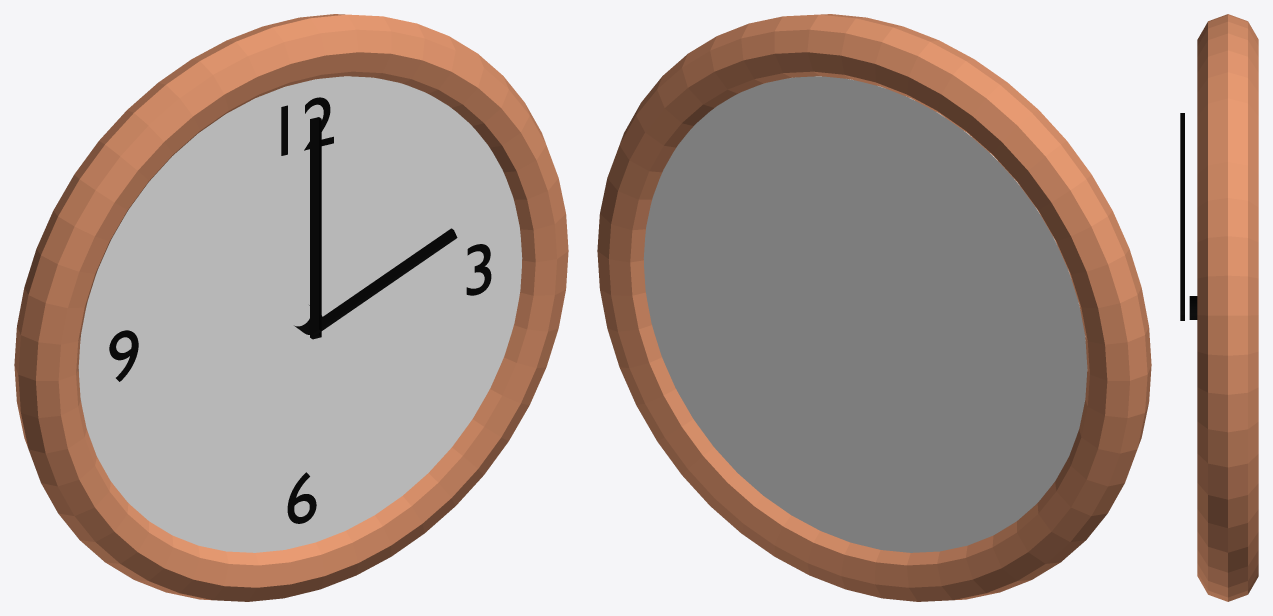
Rendered from clock.fbx.
3 renders of one model, left to right at view 1: azimuth 30°, elevation 25°; view 2: azimuth 150°, elevation 25°; view 3: azimuth 270°, elevation 25°, orthographic. The views are drawn at different scales.
Visible parts, largest first — view 1: Torus; view 2: Torus; view 3: Torus.
Boxes of the visible parts, x1=… form: Torus: x1=14, y1=14, x2=568, y2=601; Torus: x1=597, y1=14, x2=1151, y2=601; Torus: x1=1180, y1=14, x2=1258, y2=601.
Size of the model in its own units: 246 by 245 by 32.8.
